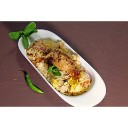briyani: (24, 41, 92, 91)
